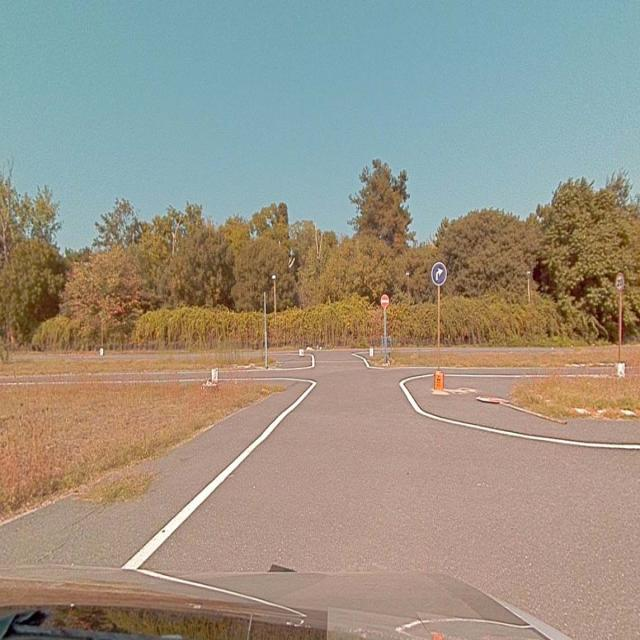20: (616, 274, 623, 290)
girisyok: (381, 294, 389, 308)
sag: (432, 263, 447, 285)
